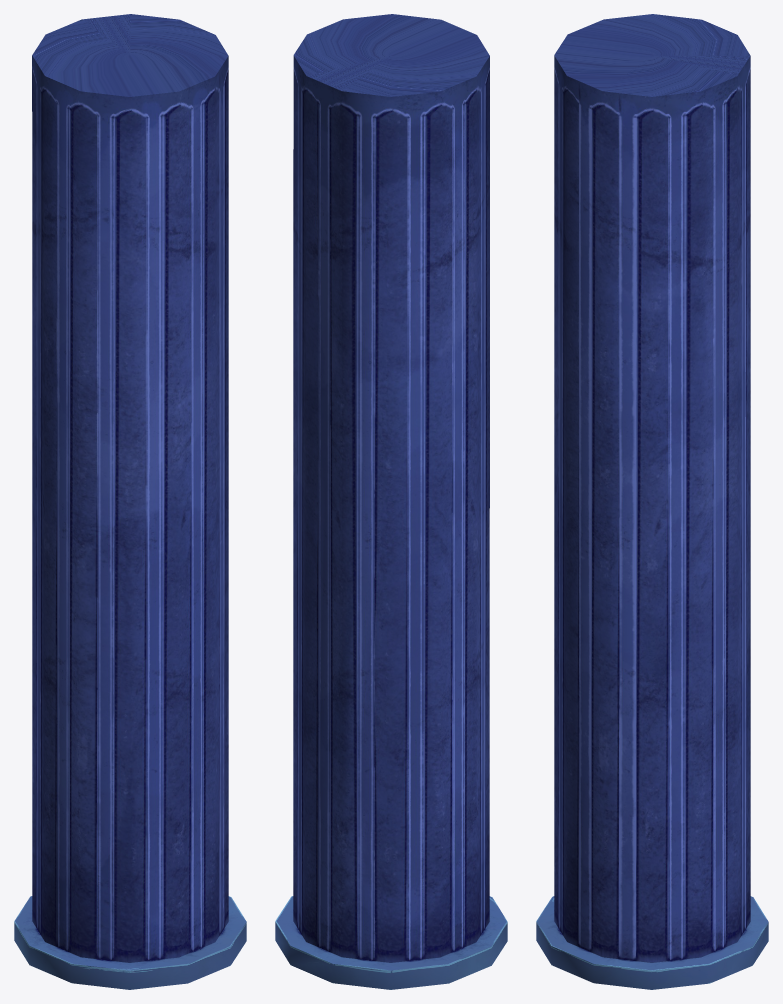
The model's file is std_Column.fbx.
3 renders of one model, left to right at view 1: azimuth 30°, elevation 25°; view 2: azimuth 150°, elevation 25°; view 3: azimuth 270°, elevation 25°, orthographic.
Parts seen in each view (by area): view 1: Column2; view 2: Column2; view 3: Column2.
Boxes of the visible parts, x1=… form: Column2: x1=14, y1=14, x2=246, y2=989; Column2: x1=275, y1=14, x2=507, y2=989; Column2: x1=536, y1=14, x2=768, y2=989.
Bounding box in the file's own units: 4.36 × 18.32 × 4.36.
